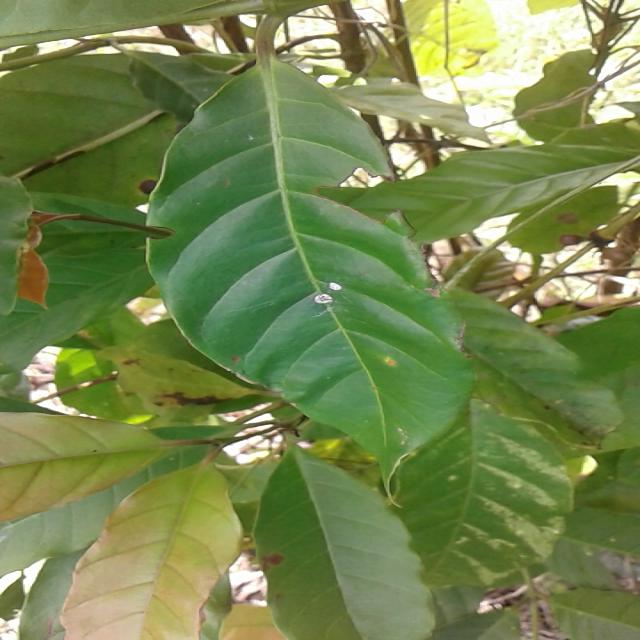Enfermedad-Roya: (143, 60, 475, 500)
